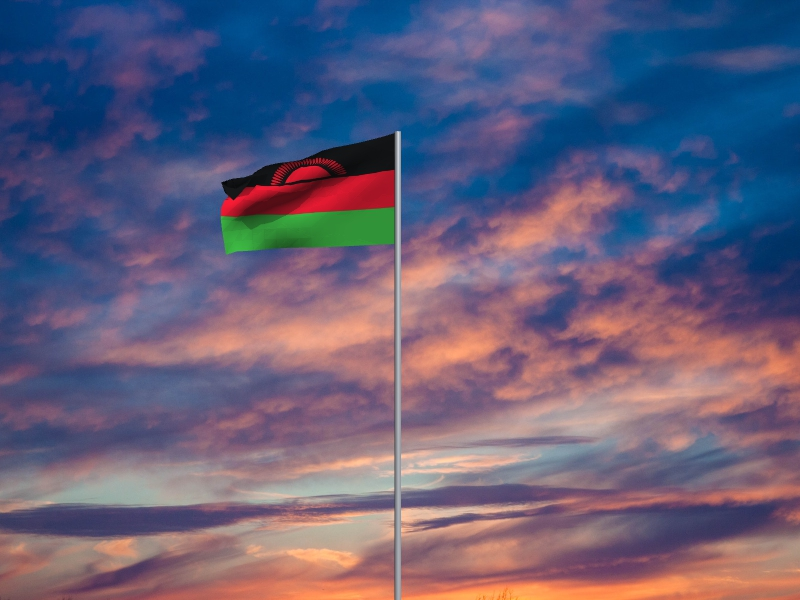mw: (221, 134, 395, 257)
